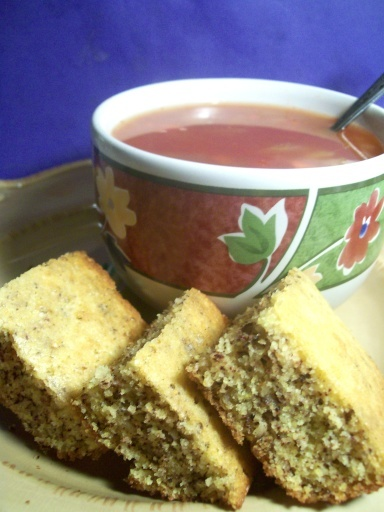background: (0, 198, 230, 408), (67, 53, 230, 134)
